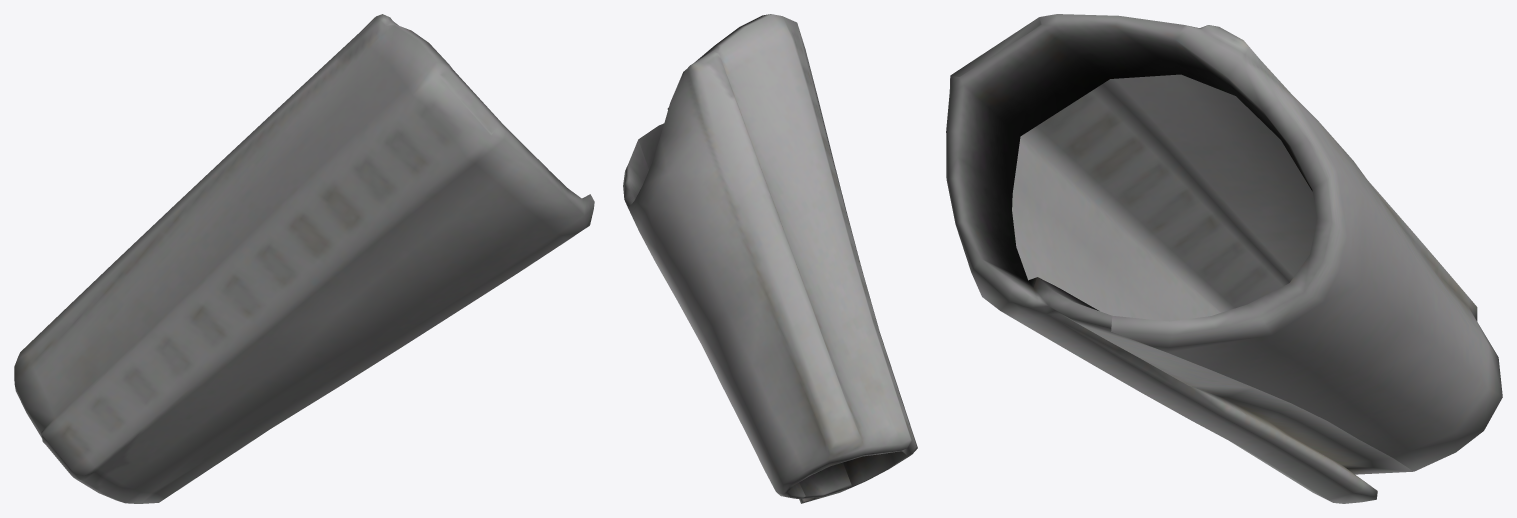
File: Stormtrooper_LowerArmL.fbx
The picture shows the model from 3 angles, left to right: view 1: azimuth 30°, elevation 25°; view 2: azimuth 150°, elevation 25°; view 3: azimuth 270°, elevation 25°; orthographic projection. The views are drawn at different scales.
Parts seen in each view (by area): view 1: LowerArmL; view 2: LowerArmL; view 3: LowerArmL.
Boxes of the visible parts, x1=… form: LowerArmL: x1=14, y1=14, x2=594, y2=503; LowerArmL: x1=623, y1=14, x2=917, y2=503; LowerArmL: x1=946, y1=14, x2=1502, y2=503.
Bounding box in the file's own units: 0.2632 × 0.2798 × 0.2396.
